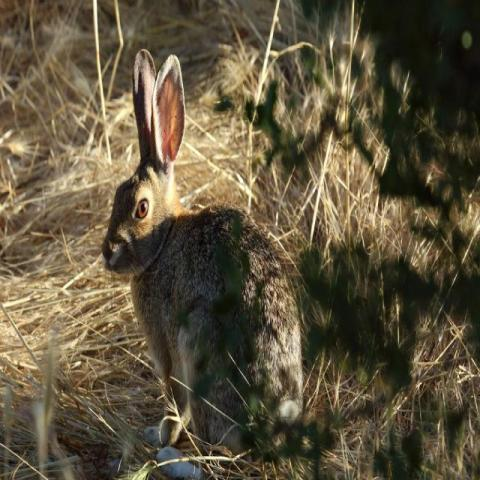small_animal: (98, 47, 308, 457)
